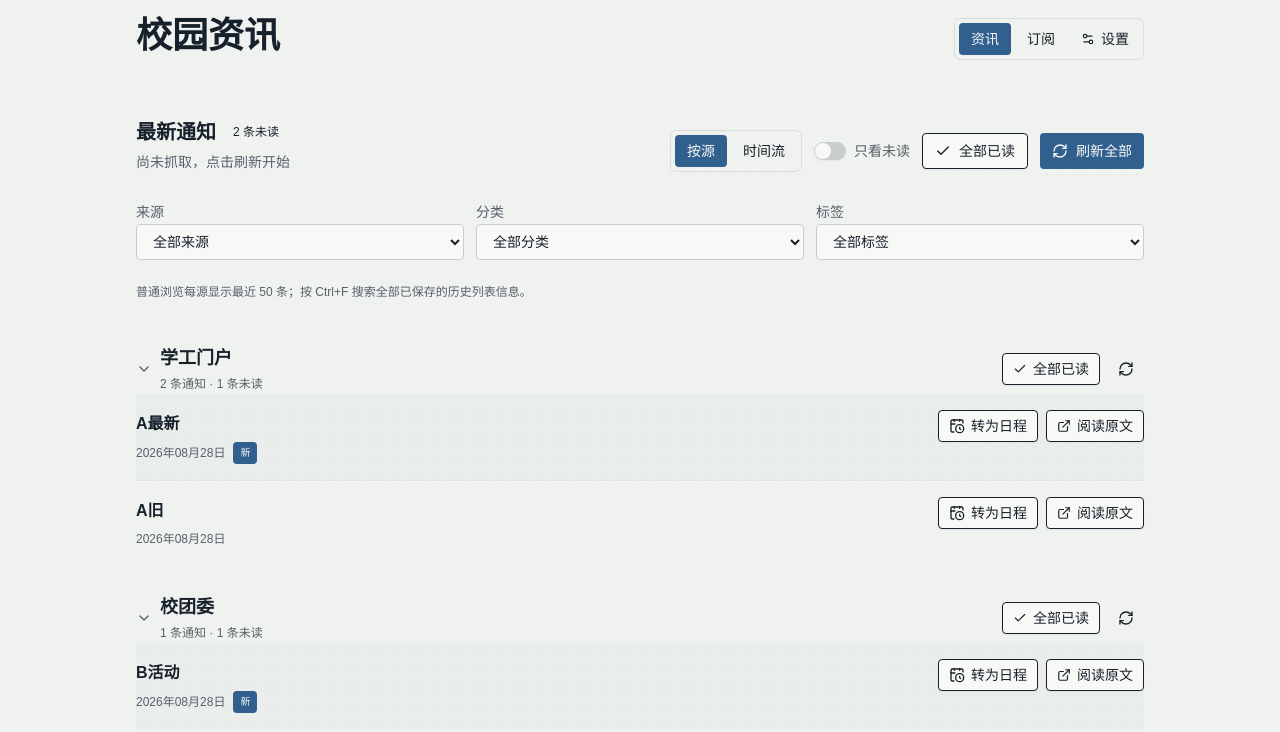
campus-feed view (source/tag/unread filters) › renders labeled source filter and filters on selection
Check: the heading "A最新" is shown, box x1=136 y1=415 x2=180 y2=432
Select "学工门户 · 1 条未读" in the dropdown labelled "来源". click: (300, 242)
box: x1=136 y1=224 x2=464 y2=260
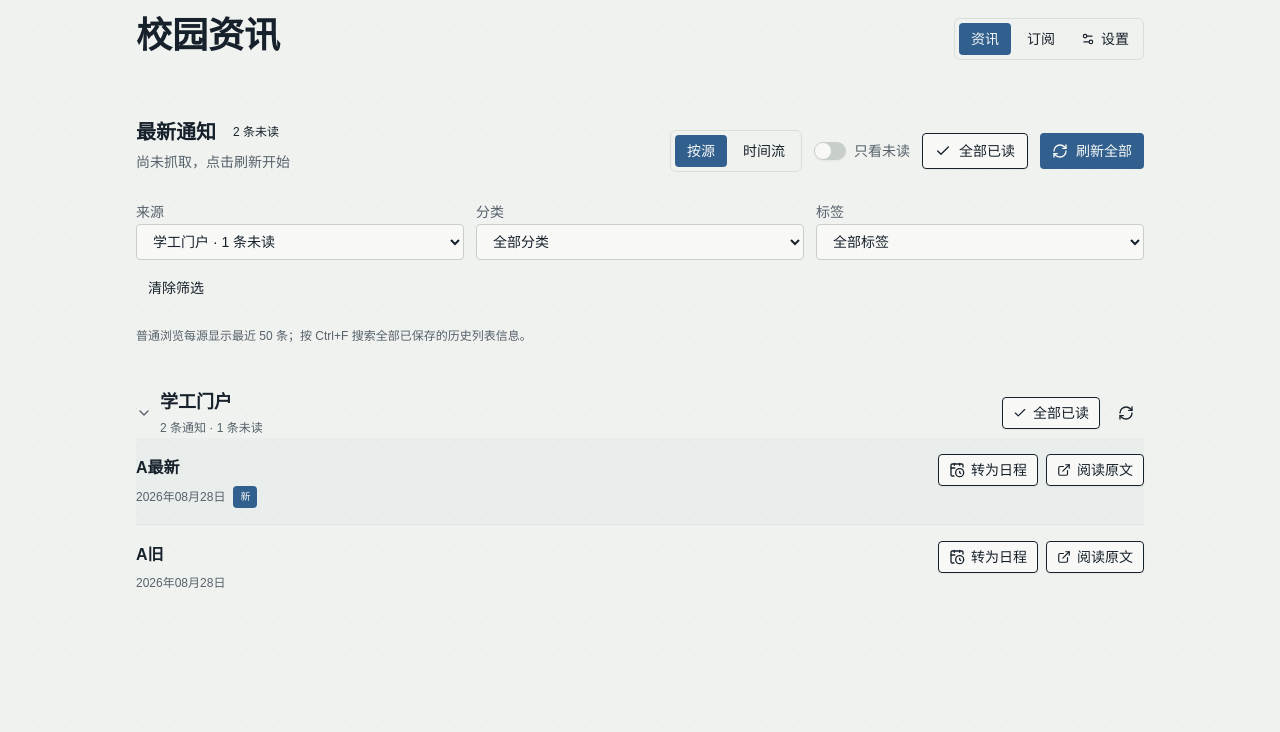
Check: the heading "A最新" is shown, box x1=136 y1=459 x2=180 y2=476
Check: the heading "B活动" is gone
